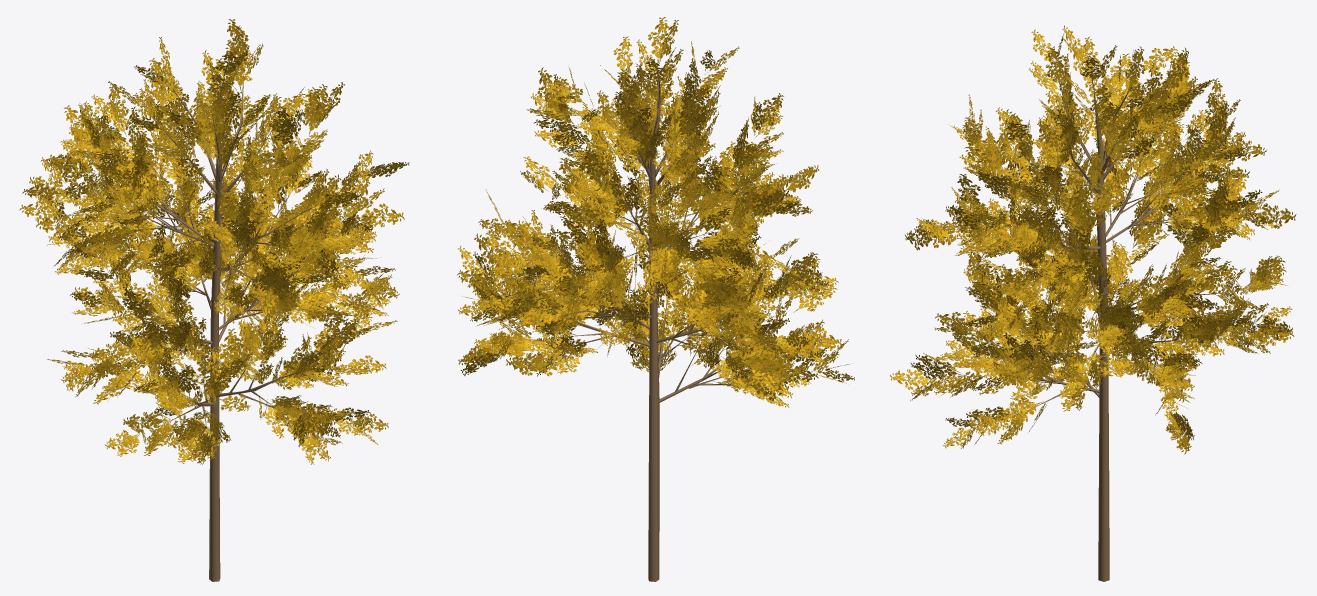
The model's file is tree1_lod1.glb.
The picture shows the model from 3 angles, left to right: view 1: azimuth 30°, elevation 25°; view 2: azimuth 150°, elevation 25°; view 3: azimuth 270°, elevation 25°; orthographic projection.
Visible parts, largest first — view 1: leaves, trunk; view 2: leaves, trunk; view 3: leaves, trunk.
Boxes of the visible parts, x1,y1,x2,y2 form: leaves: (19,19,409,464); trunk: (105,72,324,581); leaves: (457,17,854,407); trunk: (554,59,760,581); leaves: (889,25,1296,454); trunk: (993,70,1224,581).
Size of the model in its own units: 0.6526 by 1 by 0.6797.
Materials: 2 (1 with a texture image).
